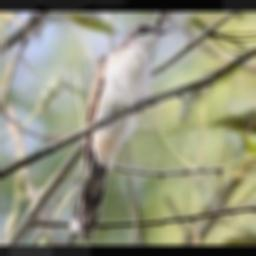Cuckoo: (68, 24, 174, 244)
